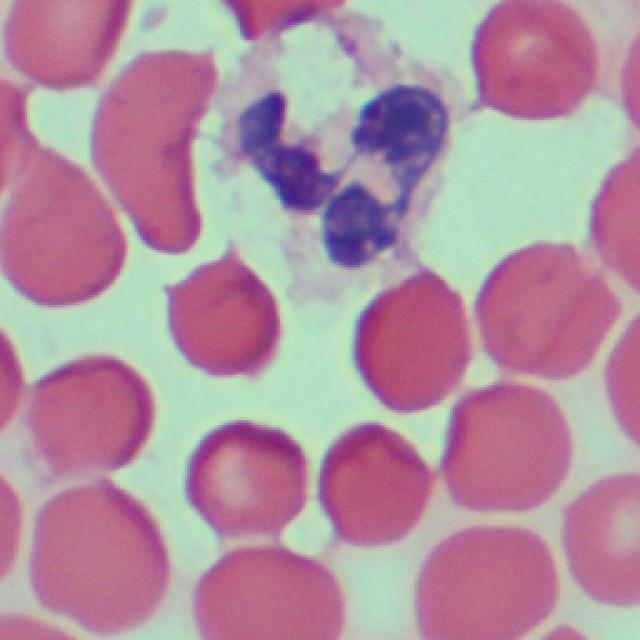RBC: (89, 50, 205, 256), (27, 472, 172, 636), (21, 322, 154, 498), (470, 235, 610, 388), (0, 148, 120, 312), (174, 411, 309, 556), (433, 377, 565, 520), (346, 259, 466, 414), (466, 2, 606, 134), (405, 517, 545, 640), (161, 248, 280, 380), (310, 417, 430, 546), (188, 540, 342, 640), (3, 0, 130, 95), (557, 472, 640, 602), (588, 143, 640, 300), (604, 298, 640, 450)
WBC: (218, 0, 451, 238)
